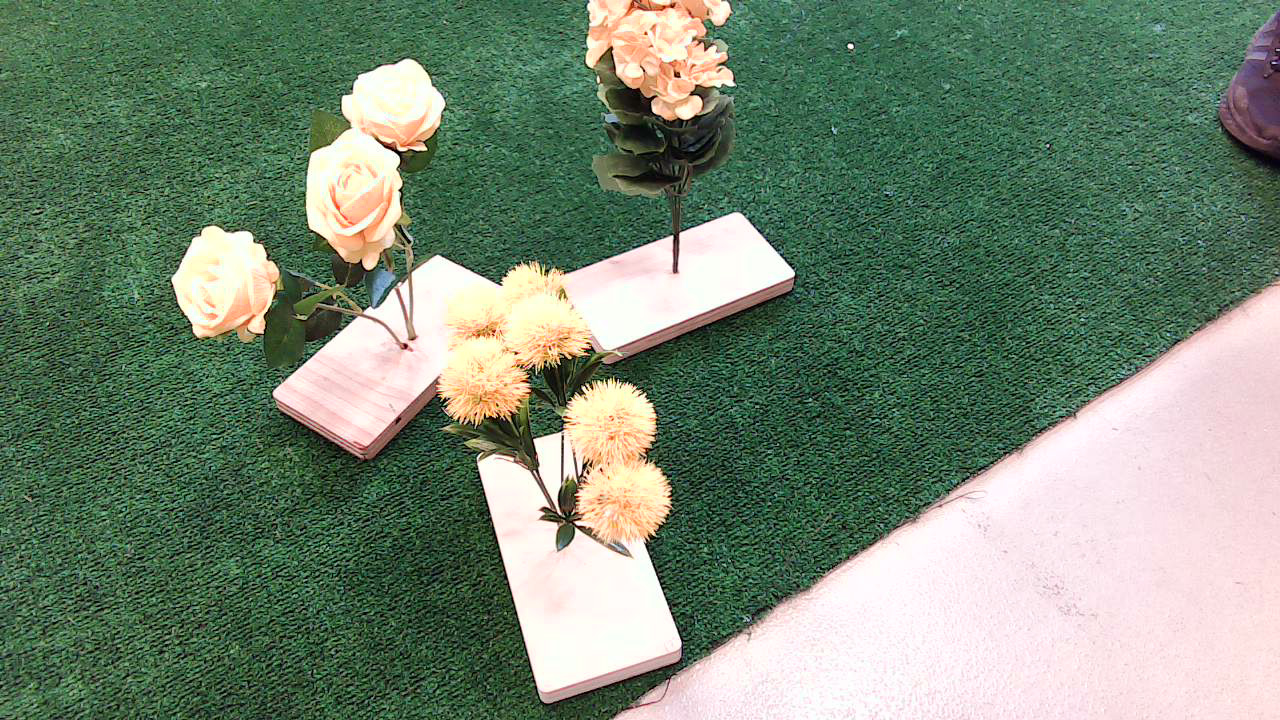dandelion: (430, 257, 593, 496), (537, 376, 714, 573)
geranium: (549, 0, 776, 214)
rose: (287, 46, 492, 268), (137, 229, 301, 351)
